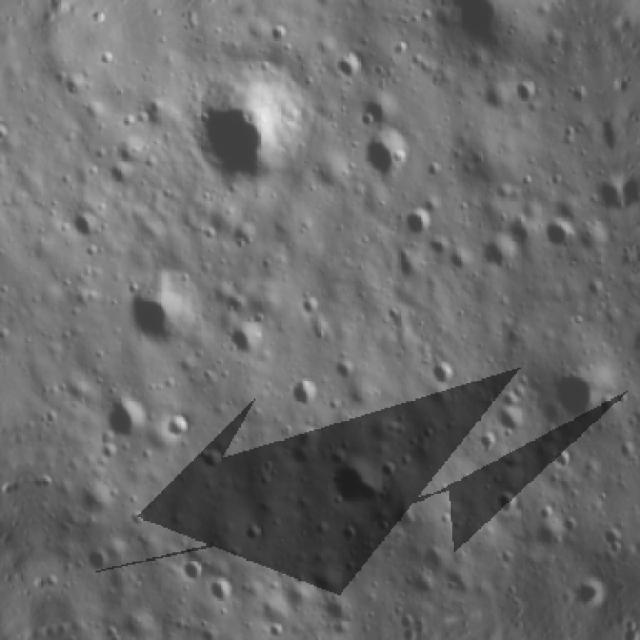crater: (172, 47, 328, 193), (418, 0, 537, 71), (118, 268, 204, 357), (547, 355, 615, 431), (356, 123, 424, 192), (318, 451, 390, 515), (97, 387, 158, 445), (305, 587, 364, 635), (472, 228, 523, 282), (218, 317, 272, 368), (70, 472, 121, 522), (355, 90, 402, 141), (537, 211, 580, 254), (396, 200, 439, 243), (489, 397, 531, 438), (588, 175, 624, 222), (398, 566, 439, 606), (498, 216, 538, 255), (530, 518, 568, 556), (80, 539, 117, 578), (201, 575, 242, 610), (160, 405, 194, 447), (288, 373, 323, 413), (103, 154, 139, 192), (296, 287, 330, 325), (195, 441, 230, 476), (426, 357, 462, 391), (70, 206, 104, 242), (511, 72, 543, 110), (388, 500, 423, 534), (492, 485, 523, 523), (330, 50, 364, 84), (546, 444, 579, 479), (595, 522, 627, 556), (179, 554, 210, 589), (328, 354, 360, 386), (376, 449, 406, 483), (560, 511, 583, 538), (533, 501, 559, 524)
